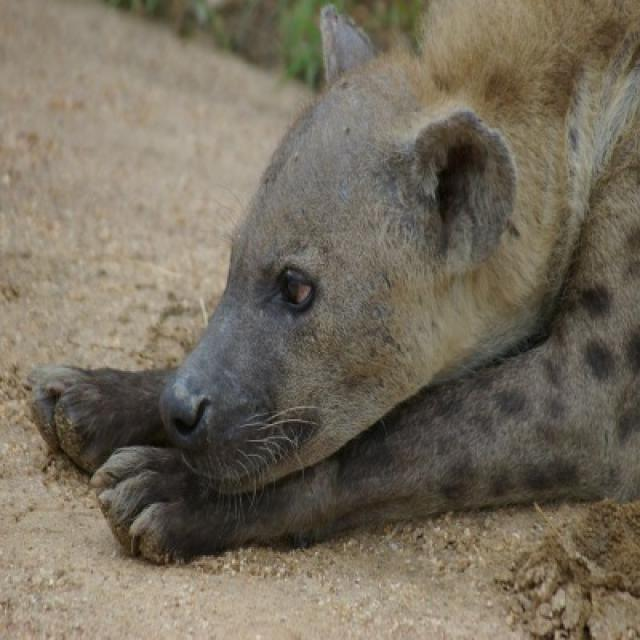hyena: (38, 0, 638, 568)
